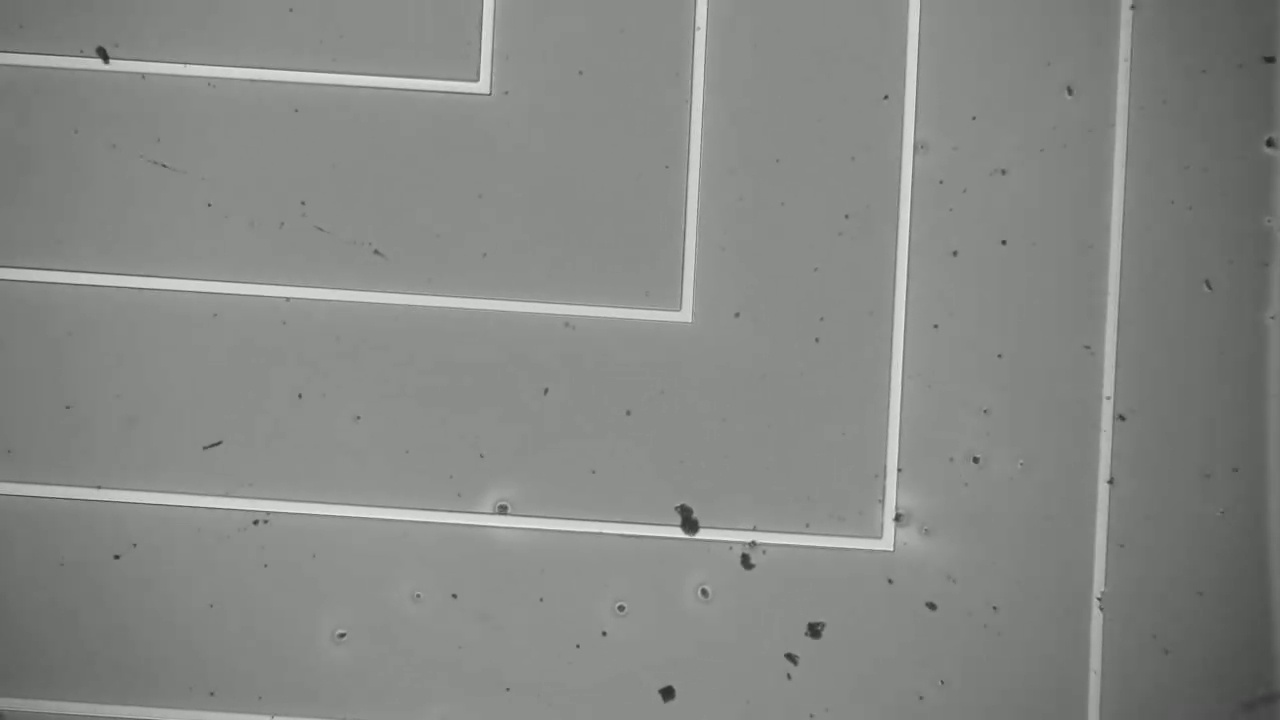edge_bite: (1085, 582, 1113, 626)
stains_enbedded: (671, 497, 705, 549), (83, 33, 117, 77), (875, 502, 912, 532)
